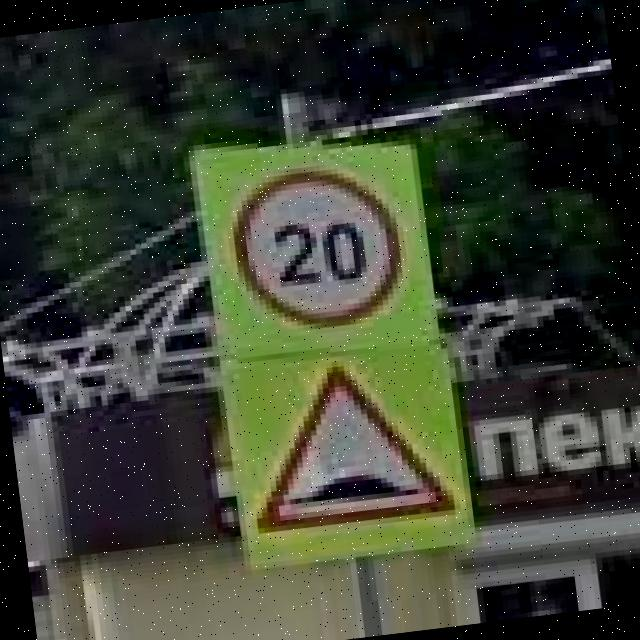Ograniczenie predkosci do 20: (226, 156, 414, 342)
